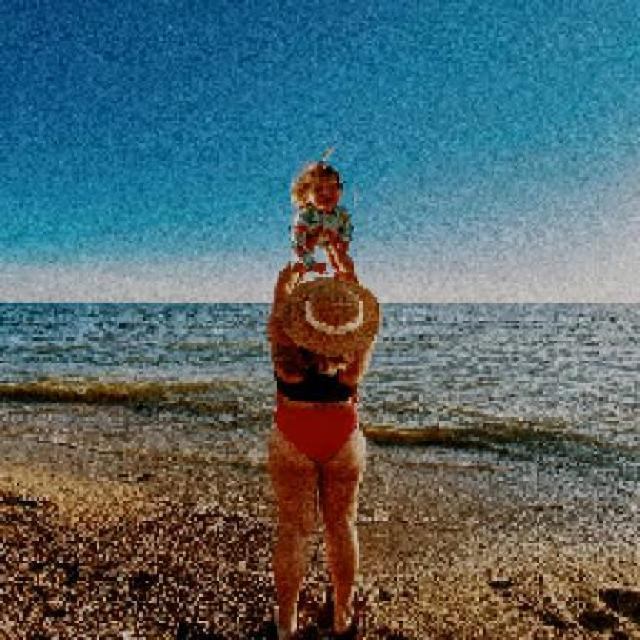child: (289, 160, 354, 274)
